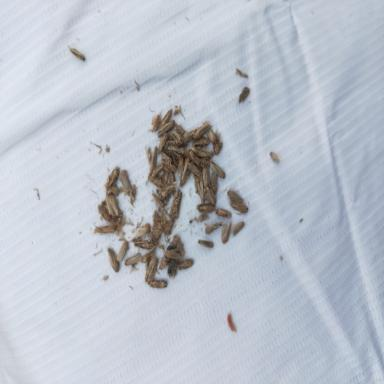pbw: (98, 204, 119, 226), (104, 166, 120, 194), (104, 191, 118, 217), (192, 120, 212, 138), (178, 157, 190, 187), (145, 256, 158, 282), (170, 192, 182, 218), (157, 120, 175, 137), (107, 247, 119, 272), (212, 128, 223, 155), (208, 162, 225, 179), (159, 181, 176, 198), (120, 169, 132, 193), (131, 238, 154, 250), (172, 235, 185, 256), (153, 211, 163, 238), (230, 200, 249, 214), (148, 163, 164, 179), (68, 45, 85, 60), (195, 178, 206, 201), (164, 214, 175, 237), (117, 239, 128, 262), (135, 223, 150, 239), (168, 145, 189, 156), (204, 186, 216, 205), (160, 109, 172, 128), (186, 162, 202, 176), (150, 174, 166, 188), (169, 130, 183, 146), (192, 136, 209, 149), (195, 202, 215, 213), (158, 210, 167, 234), (204, 222, 222, 234), (190, 149, 202, 167), (167, 258, 179, 276), (221, 222, 231, 243), (125, 252, 141, 265), (150, 145, 158, 170), (94, 225, 116, 234), (183, 129, 197, 143), (141, 250, 156, 263), (152, 192, 164, 208), (174, 121, 186, 137), (194, 148, 213, 158), (226, 190, 243, 201), (148, 279, 168, 288), (206, 129, 218, 144), (158, 132, 167, 152), (197, 238, 214, 248), (231, 221, 244, 234), (128, 183, 136, 204), (192, 156, 210, 165), (178, 258, 194, 268), (164, 249, 180, 259), (196, 211, 210, 222), (238, 88, 249, 102), (160, 152, 174, 163), (215, 208, 231, 217), (151, 115, 160, 131), (159, 256, 169, 270), (202, 167, 209, 186), (269, 152, 281, 163), (146, 243, 157, 255), (166, 139, 180, 148), (162, 164, 176, 173), (210, 172, 218, 187), (178, 156, 184, 176), (167, 171, 174, 182)
